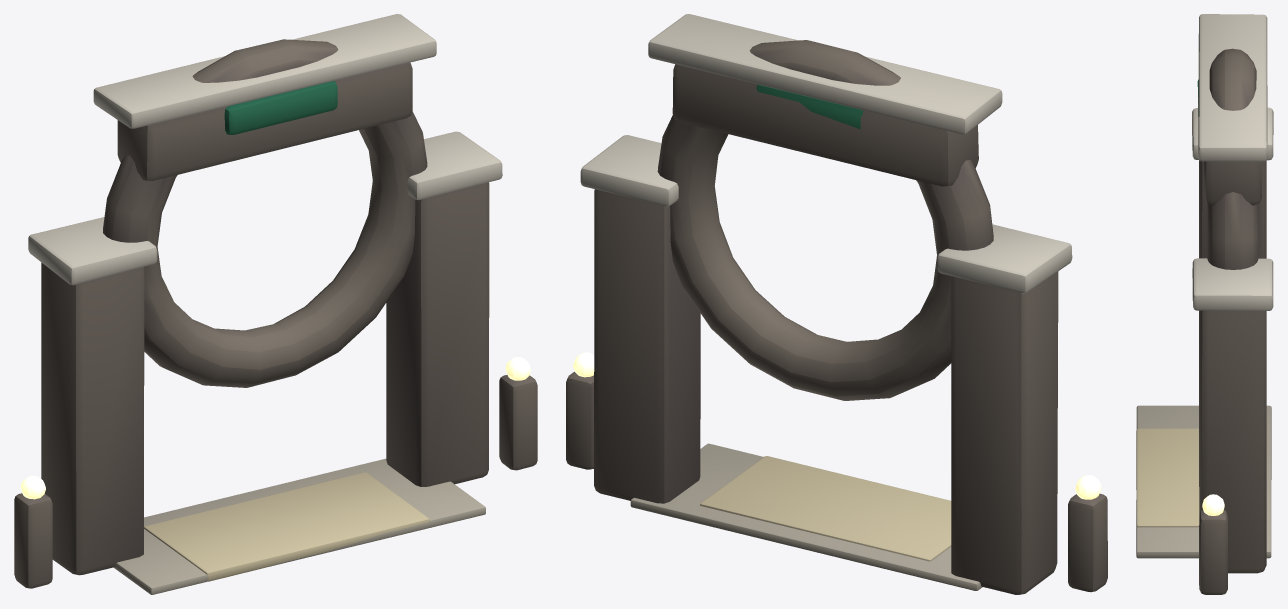
3 views of the same model, side by side, from view 1: azimuth 30°, elevation 25°; view 2: azimuth 150°, elevation 25°; view 3: azimuth 270°, elevation 25° (orthographic). The views are drawn at different scales.
Visible parts, largest first — view 1: gate_f226bd1b; view 2: gate_f226bd1b; view 3: gate_f226bd1b.
Part boxes in pixels (box(x1,y1,x2,y2)): gate_f226bd1b: box(14, 14, 537, 594); gate_f226bd1b: box(566, 14, 1107, 594); gate_f226bd1b: box(1136, 14, 1273, 594).
Bounding box in the file's own units: 5.5 × 4.81 × 1.42.
